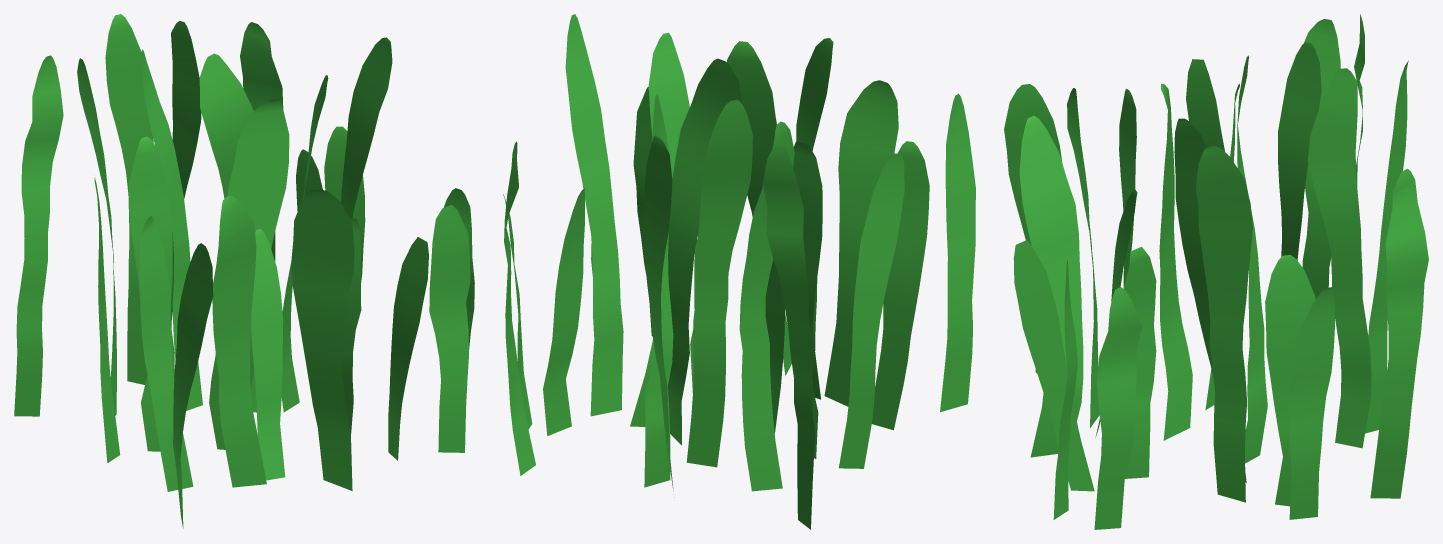
Rendered from coral_seagrass_C_round_medium.fbx.
3 views of the same model, side by side, from view 1: azimuth 30°, elevation 25°; view 2: azimuth 150°, elevation 25°; view 3: azimuth 270°, elevation 25° (orthographic). The views are drawn at different scales.
Visible parts, largest first — view 1: coral_seagrass_C_round_medium; view 2: coral_seagrass_C_round_medium; view 3: coral_seagrass_C_round_medium.
Part boxes in pixels (x1,y1,x2,y2): coral_seagrass_C_round_medium: [14, 14, 474, 528]; coral_seagrass_C_round_medium: [503, 14, 975, 529]; coral_seagrass_C_round_medium: [1004, 14, 1428, 529].
Bounding box in the file's own units: 76.64 × 80.3 × 80.62.
